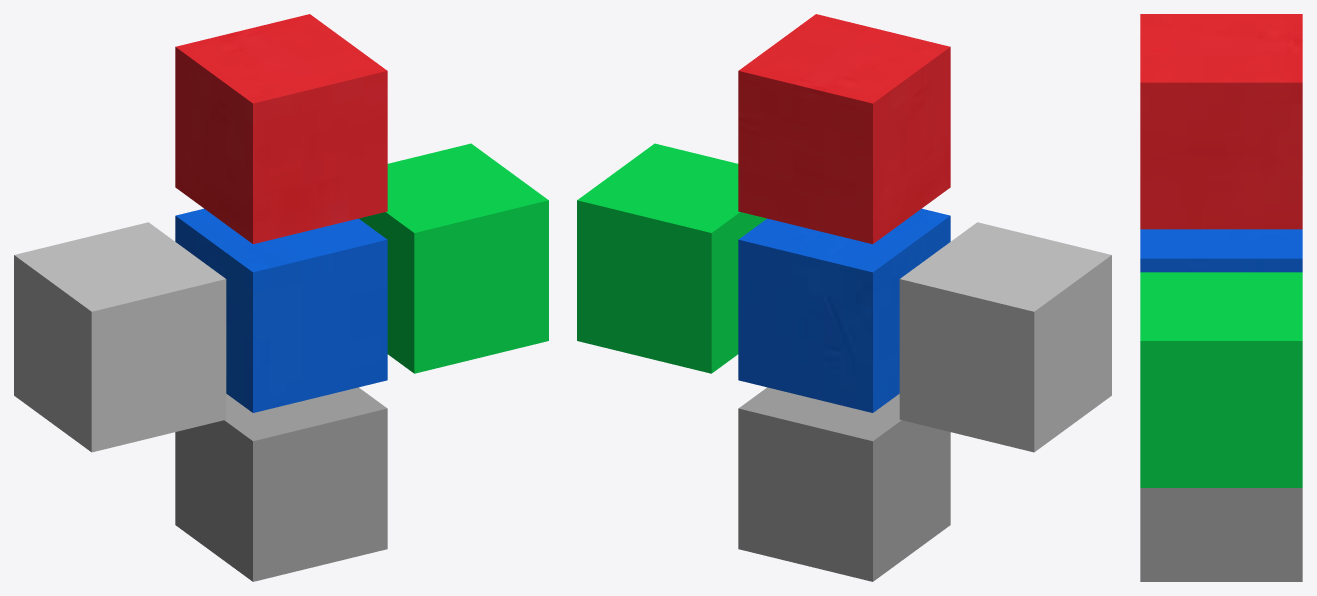
Rendered from texture2Model.fbx.
3 views of the same model, side by side, from view 1: azimuth 30°, elevation 25°; view 2: azimuth 150°, elevation 25°; view 3: azimuth 270°, elevation 25° (orthographic). The views are drawn at different scales.
Visible parts, largest first — view 1: pCube6; view 2: pCube6; view 3: pCube6.
Boxes of the visible parts, left/top/right/bottom form: pCube6: left=14, top=14, right=548, bottom=581; pCube6: left=577, top=14, right=1111, bottom=581; pCube6: left=1140, top=14, right=1302, bottom=581.
Size of the model in its own units: 3.4 by 3.4 by 1.
